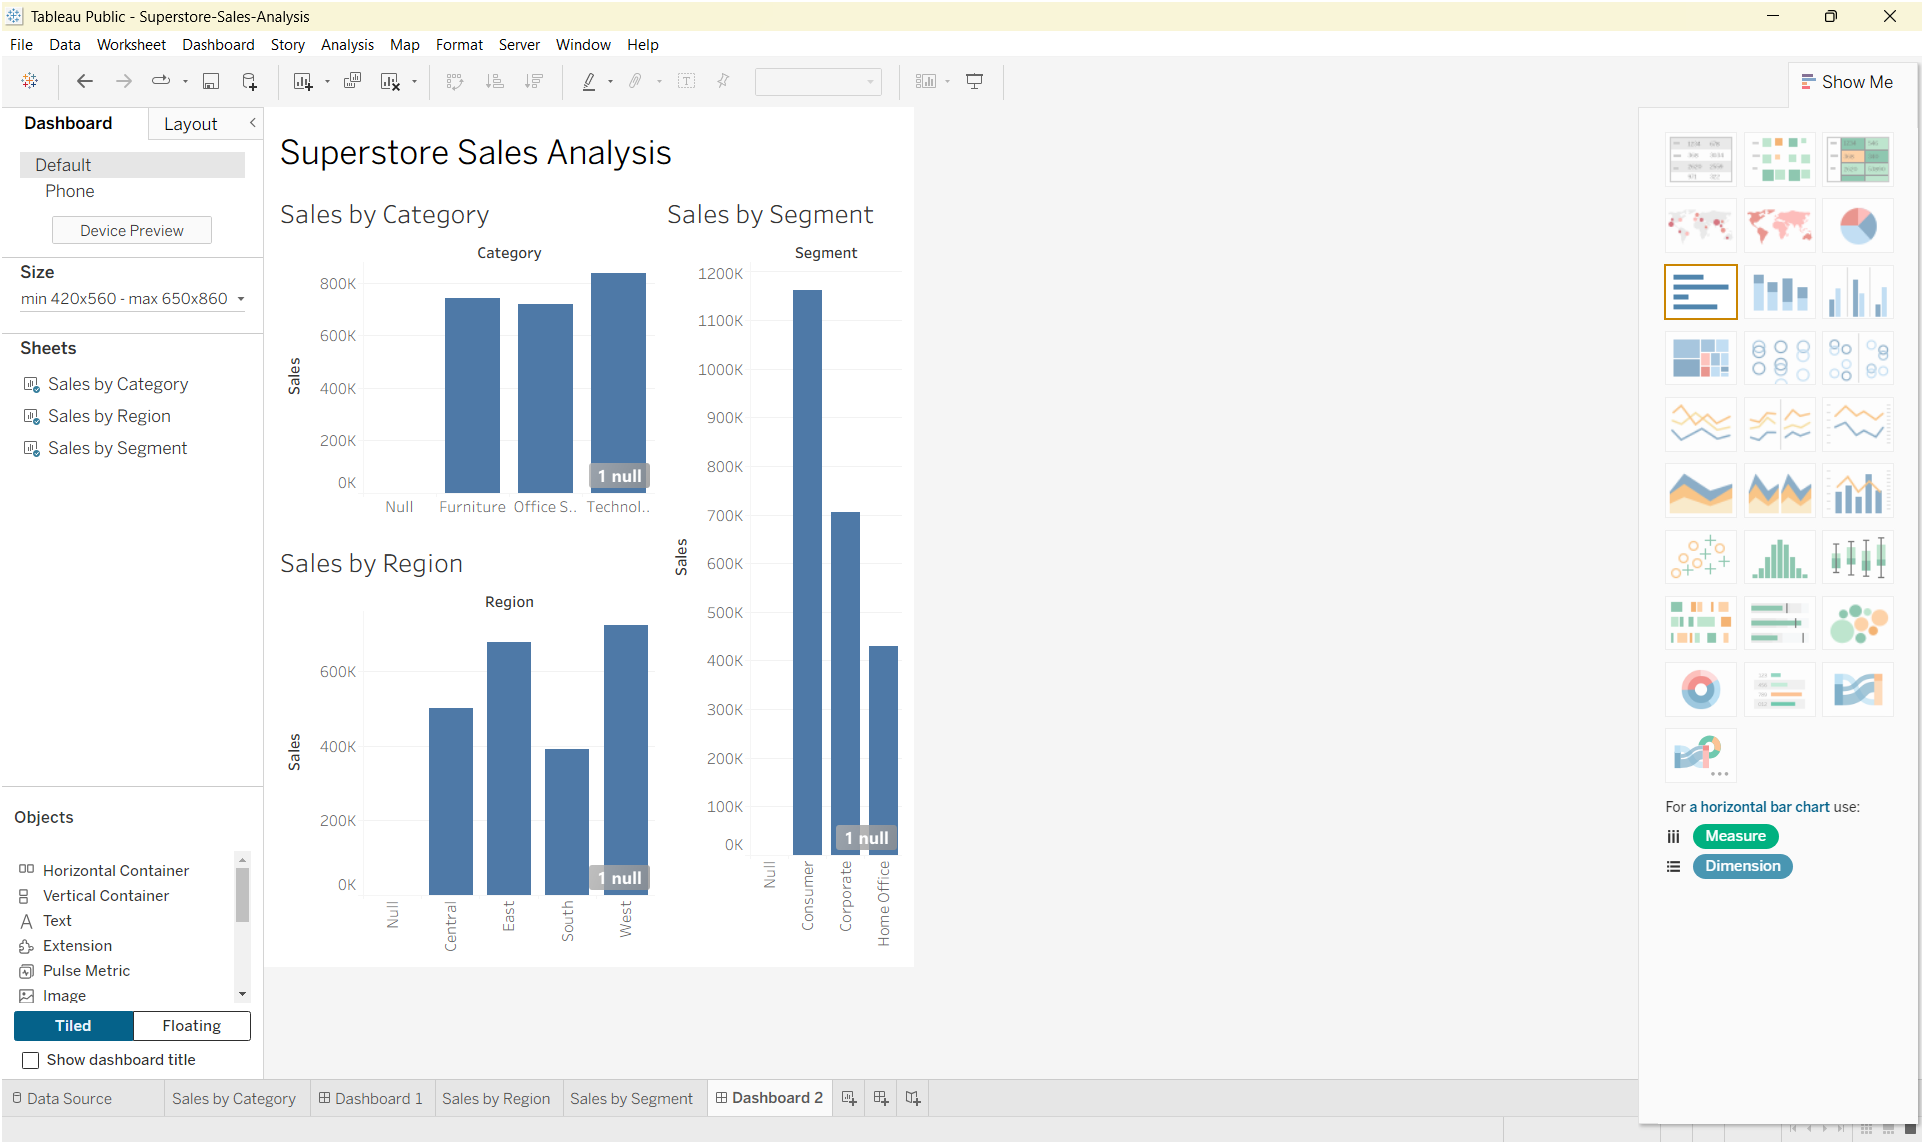

The dashboard page shown, as its layout file describes it:
{"tool":"tableau","page":{"name":"Dashboard 2","canvas":[650,860],"ordinal":1},"visuals":[{"type":"text","box":[8,8,634,73]},{"type":"worksheet","title":"Sales by Category","mark":"Automatic","rows":["Sales"],"cols":["Category"],"box":[8,81,387,349]},{"type":"worksheet","title":"Sales by Segment","mark":"Automatic","rows":["Sales"],"cols":["Segment"],"box":[395,81,247,771]},{"type":"worksheet","title":"Sales by Region","mark":"Automatic","rows":["Sales"],"cols":["Region"],"box":[8,430,387,422]}]}

Visuals, with their boxes on the page's 650x860 design canvas (x1, y1, x2, y2). These are canvas units, not pixel positions in the 1924x1144 screenshot, which may show the page scaled, cropped or inside an application window:
text: 8, 8, 642, 81
"Sales by Category" worksheet: 8, 81, 395, 430
"Sales by Segment" worksheet: 395, 81, 642, 852
"Sales by Region" worksheet: 8, 430, 395, 852
